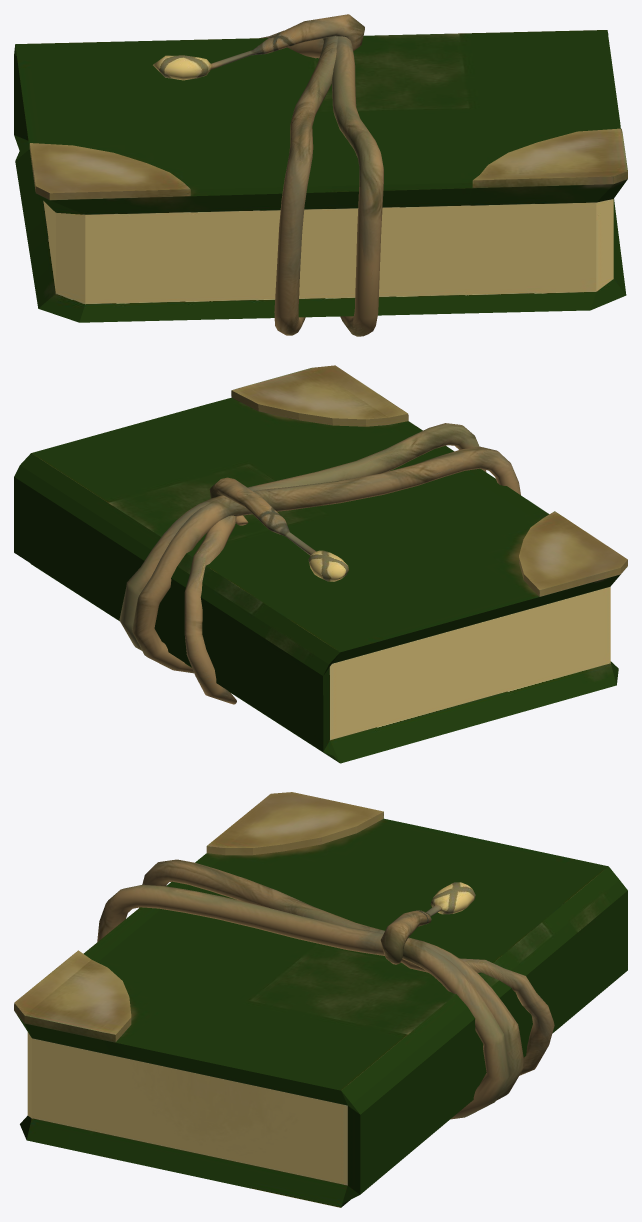
File: dziennik.fbx
The picture shows the model from 3 angles, top to bottom: view 1: azimuth 30°, elevation 25°; view 2: azimuth 150°, elevation 25°; view 3: azimuth 270°, elevation 25°; orthographic projection. The views are drawn at different scales.
Visible parts, largest first — view 1: Cube.009, BezierCurve.003; view 2: Cube.009, BezierCurve.003; view 3: Cube.009, BezierCurve.003.
Part boxes in pixels (x1,y1,x2,y2): Cube.009: (14,30,627,322); BezierCurve.003: (153,14,383,336); Cube.009: (14,365,627,763); BezierCurve.003: (119,423,520,704); Cube.009: (14,792,627,1207); BezierCurve.003: (97,859,554,1119).
Size of the model in its own units: 100 by 34.14 by 87.99.
2 materials, 2 textured.
